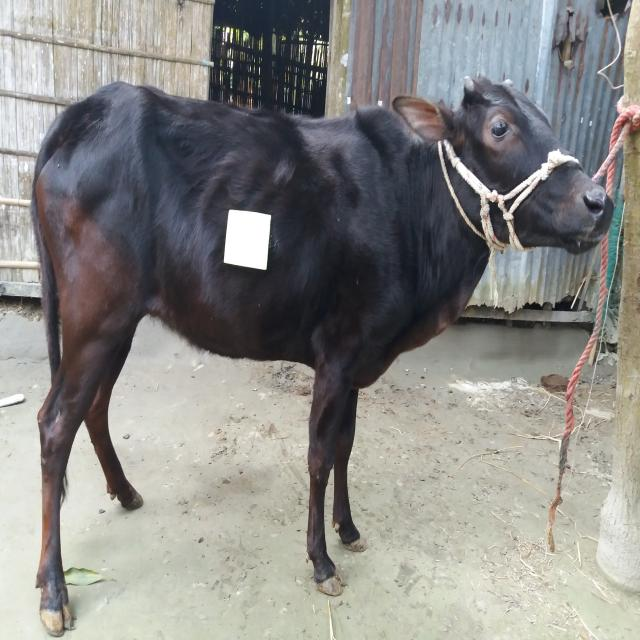badan_sapi: (83, 109, 367, 375)
sapi: (26, 75, 620, 640)
